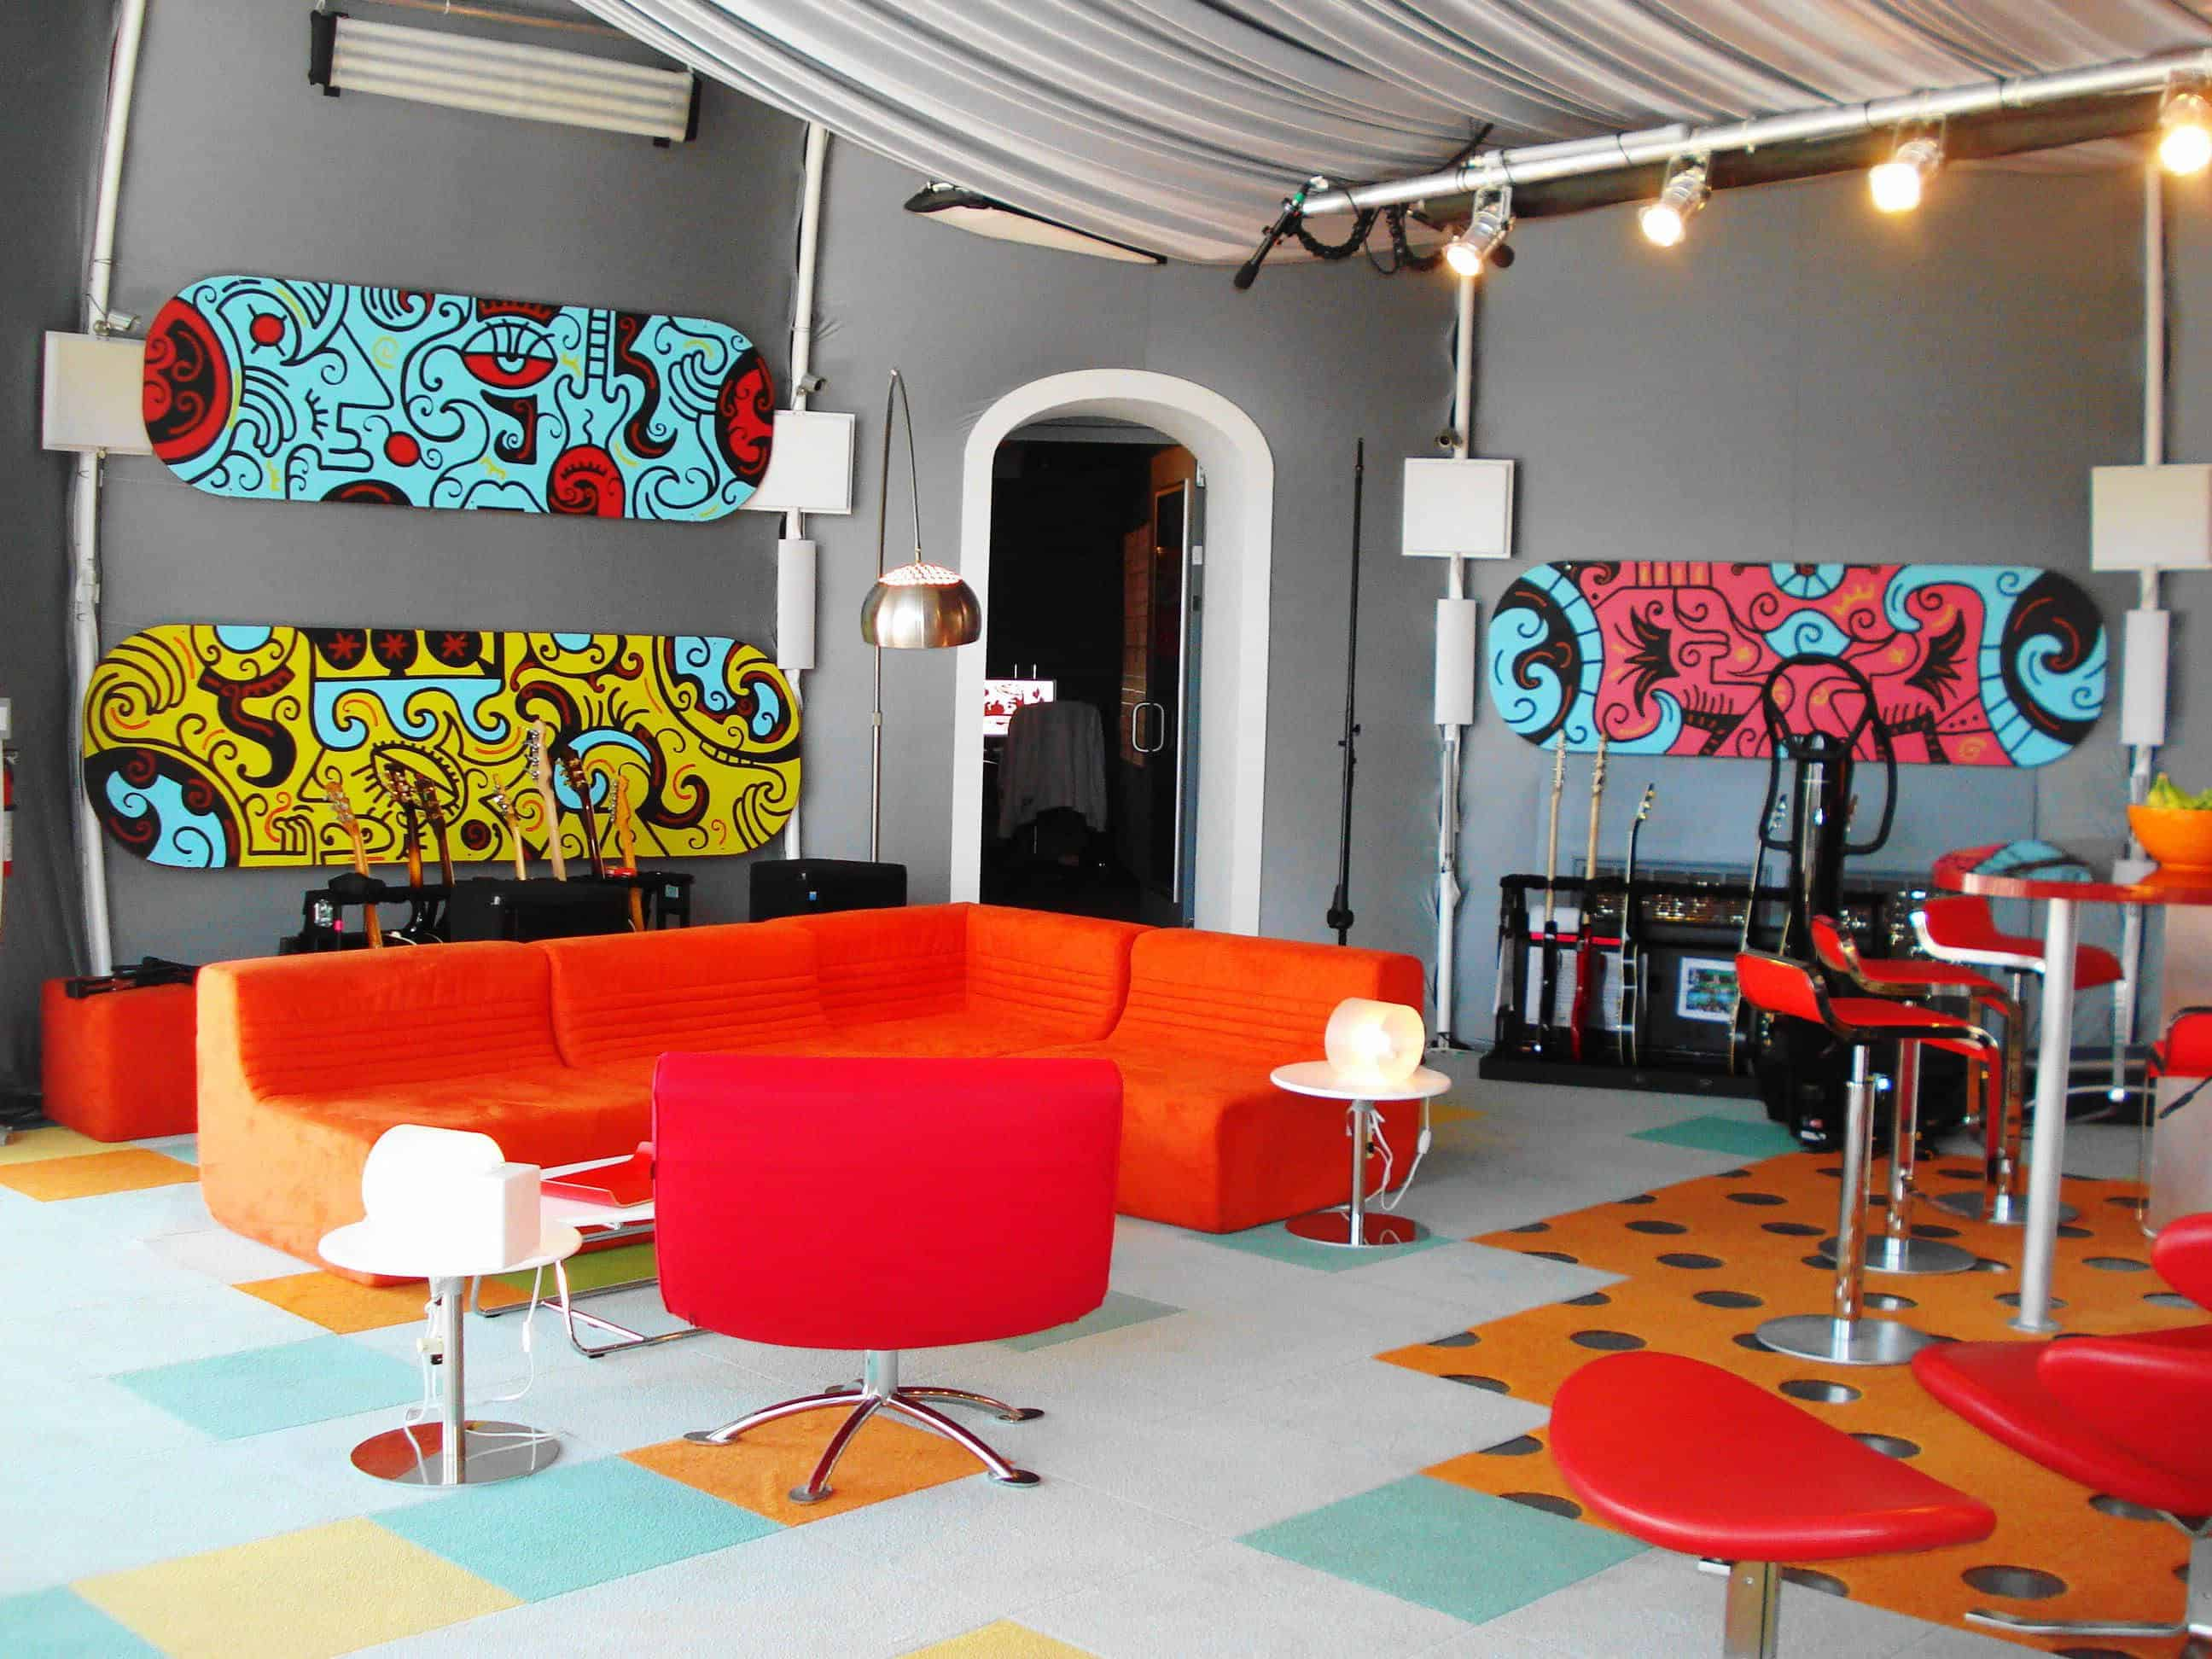merah: (644, 1040, 1137, 1352), (1548, 1349, 1993, 1554), (1919, 1323, 2212, 1497)
orange: (204, 932, 1423, 1152), (44, 978, 193, 1136), (2132, 803, 2212, 868)
putih: (368, 1138, 552, 1262), (1392, 453, 1524, 572), (2090, 464, 2212, 573), (1331, 1000, 1428, 1082)
